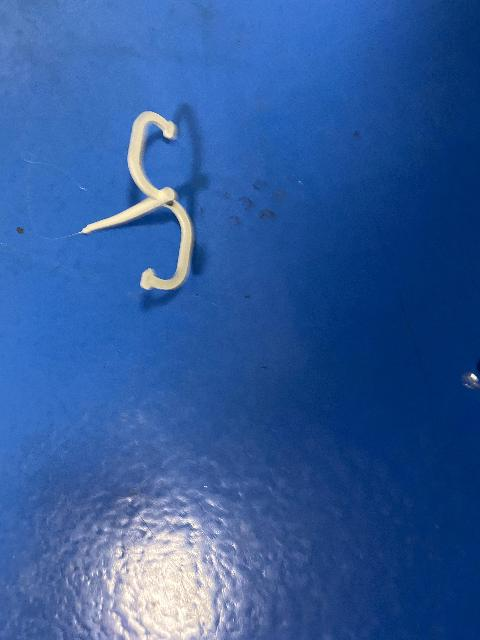Plastik: (78, 106, 200, 292)
